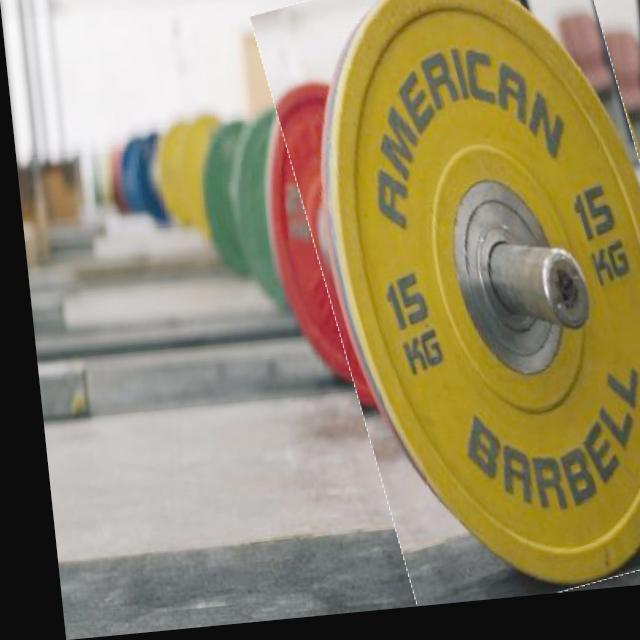barbell: (273, 1, 640, 620)
